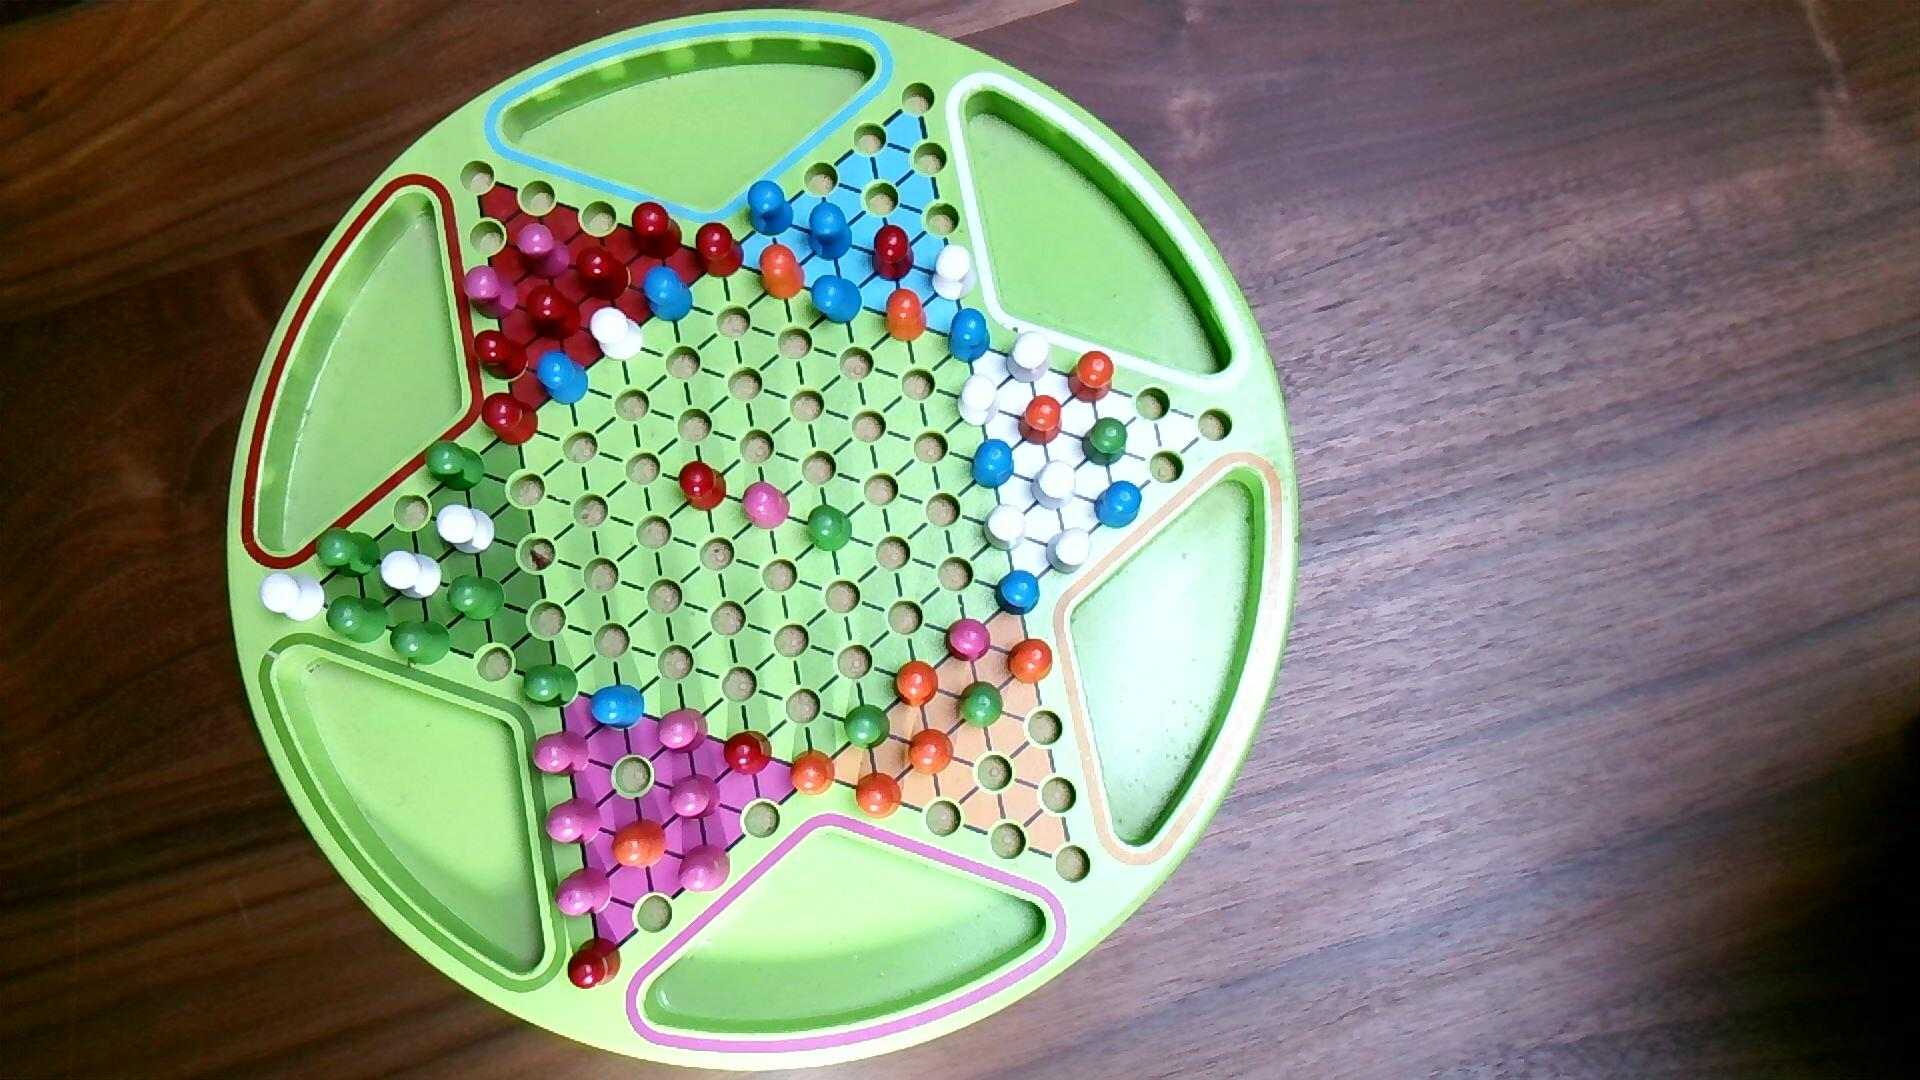B: (534, 349, 591, 407), (641, 265, 695, 324), (808, 273, 865, 327), (745, 179, 796, 239), (806, 200, 855, 262), (1092, 479, 1145, 531), (588, 684, 647, 731), (945, 306, 992, 365), (969, 438, 1015, 492), (993, 568, 1042, 618)
G: (314, 526, 382, 580), (425, 438, 487, 495), (326, 593, 389, 646), (389, 618, 452, 669), (446, 574, 506, 624), (522, 663, 582, 711), (1083, 415, 1131, 469), (806, 502, 855, 554), (956, 680, 1005, 731), (843, 703, 891, 752)
O: (611, 818, 669, 872), (758, 243, 808, 302), (1067, 349, 1117, 405), (884, 286, 930, 345), (1017, 393, 1065, 448), (786, 749, 839, 798), (855, 771, 905, 822), (906, 728, 956, 778), (891, 659, 942, 709), (1006, 637, 1055, 687)
R: (524, 284, 584, 343), (564, 934, 624, 993), (480, 392, 541, 448), (574, 245, 632, 303), (630, 200, 684, 261), (472, 328, 529, 382), (695, 222, 746, 280), (870, 222, 916, 285), (678, 459, 728, 513), (723, 731, 775, 778)
R2: (516, 222, 574, 284), (543, 794, 605, 851), (553, 865, 615, 920), (462, 264, 520, 322), (530, 728, 593, 781), (676, 841, 733, 895), (667, 771, 724, 823), (654, 705, 711, 757), (741, 479, 793, 531), (942, 617, 994, 665)
W: (378, 549, 444, 601), (260, 572, 327, 624), (589, 305, 646, 364), (436, 502, 497, 556), (930, 243, 980, 302), (1029, 458, 1079, 513), (1006, 331, 1054, 386), (1044, 526, 1095, 578), (957, 373, 1002, 430), (981, 501, 1029, 553)
